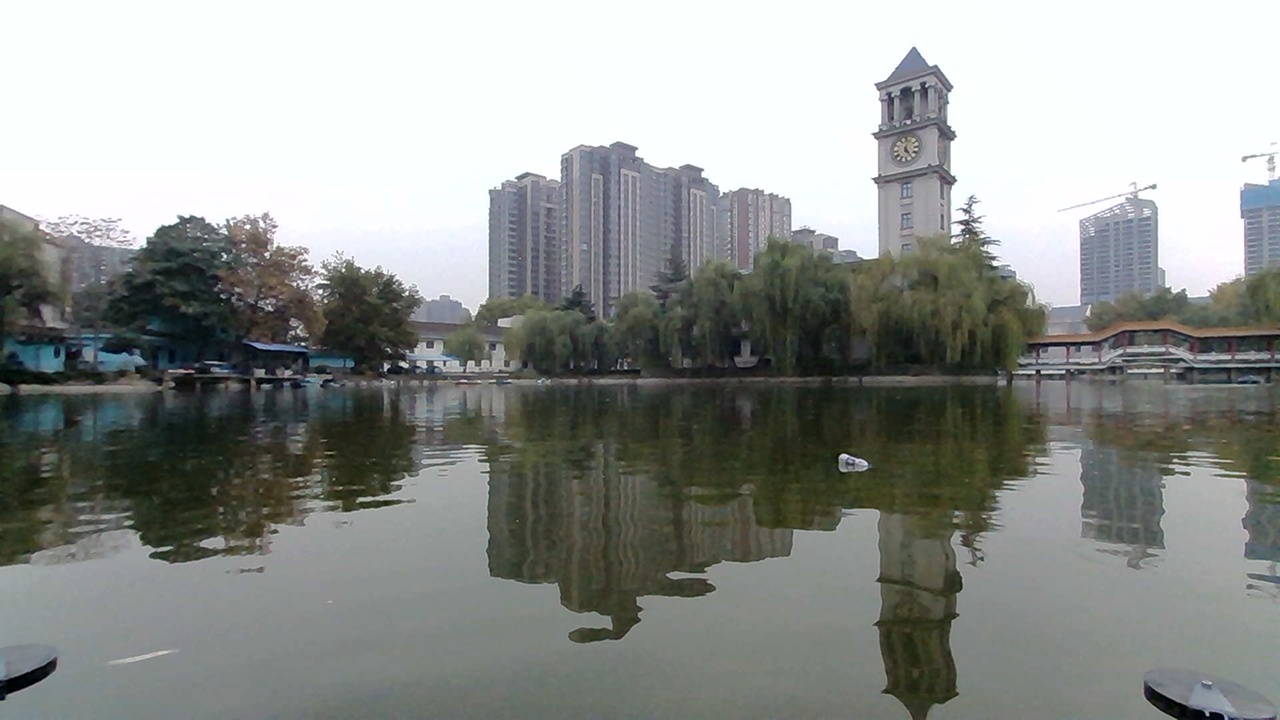bottle: (830, 448, 869, 478)
